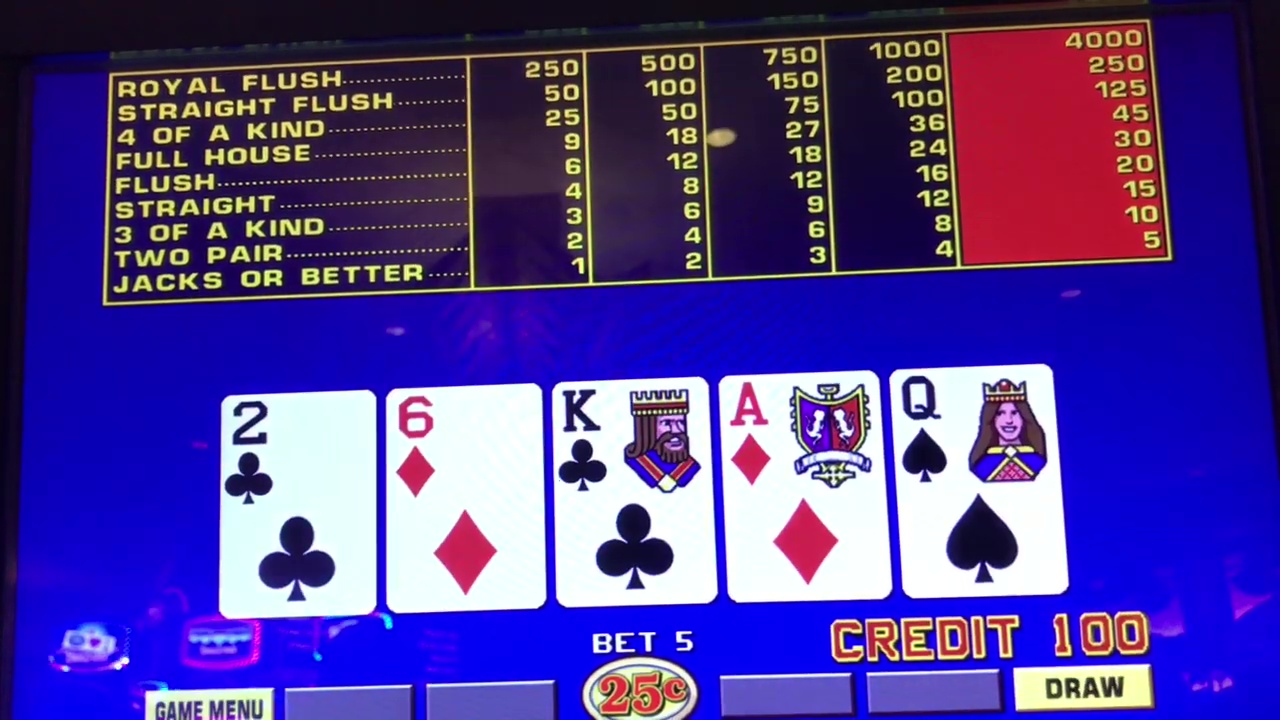C2: (228, 395, 372, 618)
CK: (553, 377, 703, 600)
D6: (389, 389, 542, 607)
DA: (729, 373, 884, 596)
SQ: (899, 369, 1054, 595)
